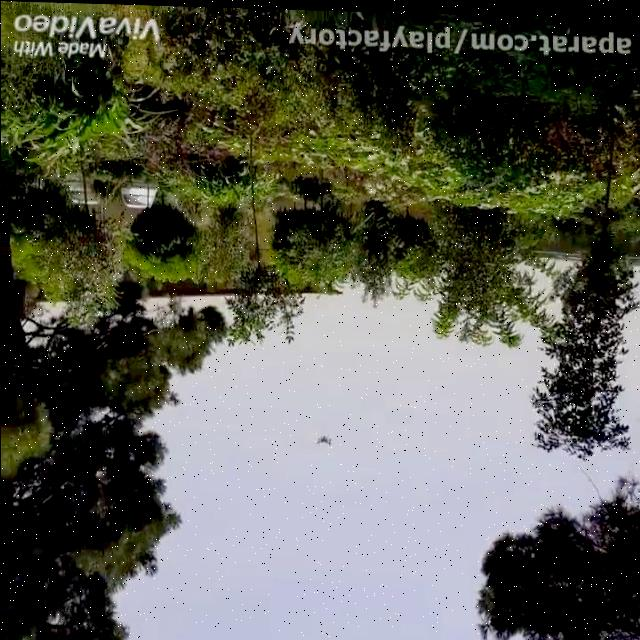drone: (308, 426, 338, 453)
